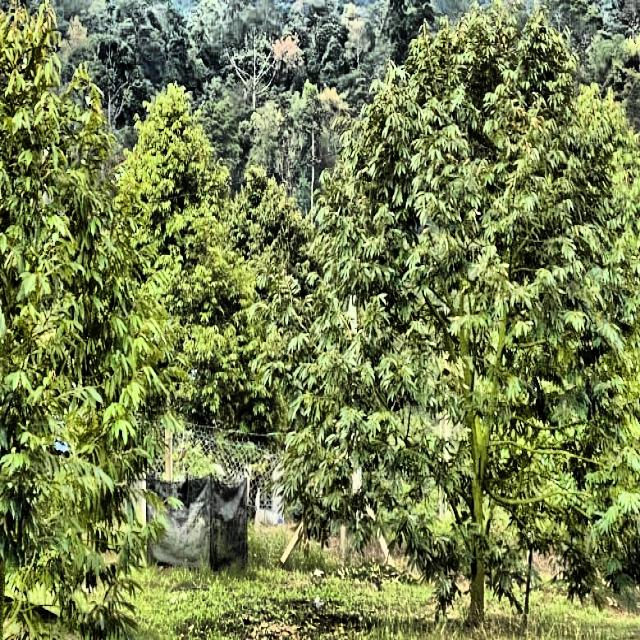arvore: (458, 343, 490, 622)
